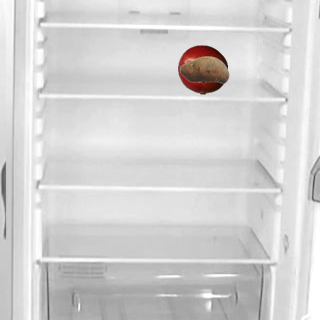Apple Braeburn: (177, 44, 227, 94)
Potato Sweet: (179, 44, 229, 94)
